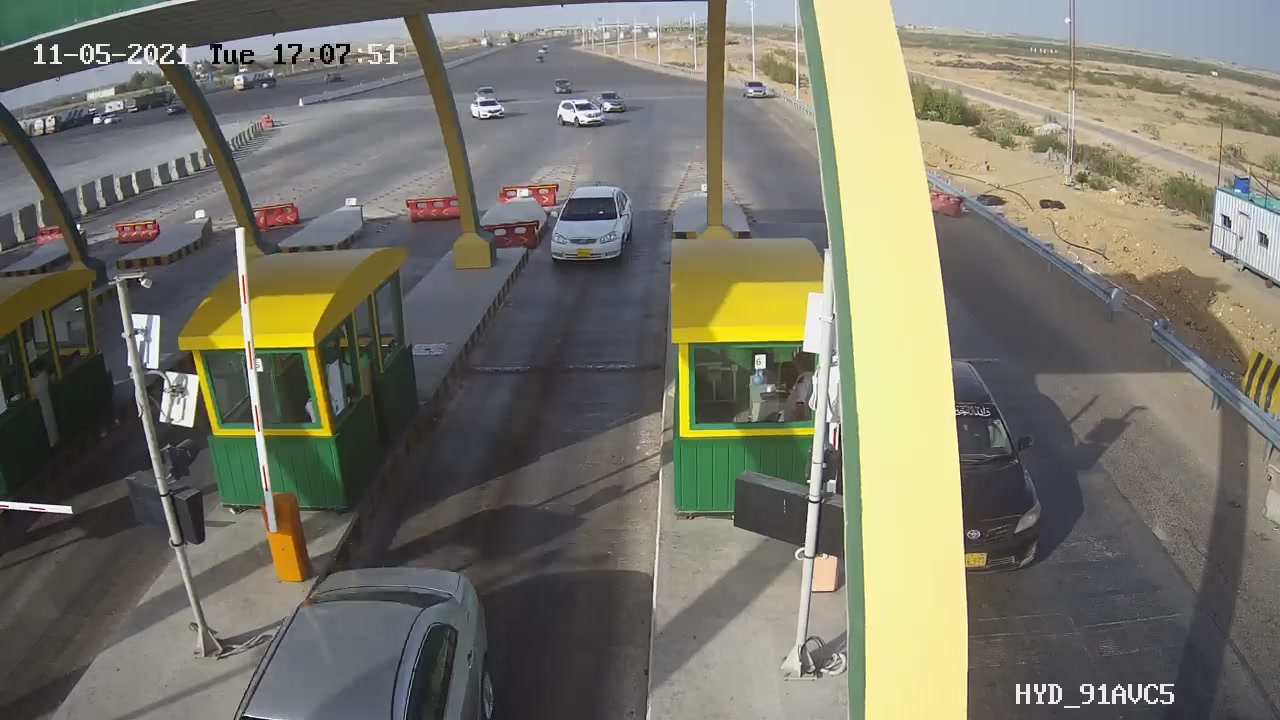F1: (535, 175, 646, 277)
